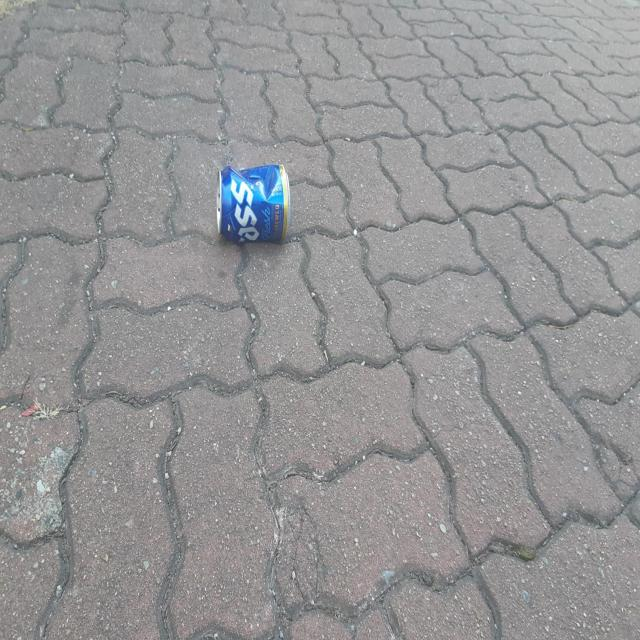can: (216, 162, 291, 241)
